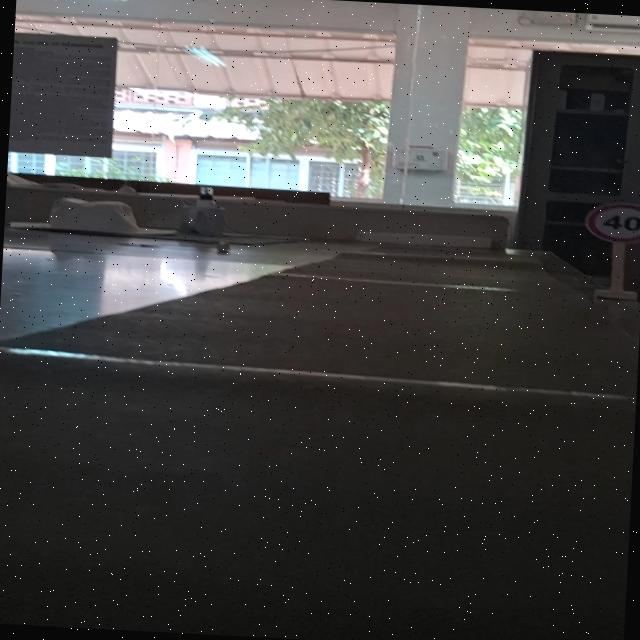Speed40: (580, 199, 640, 246)
